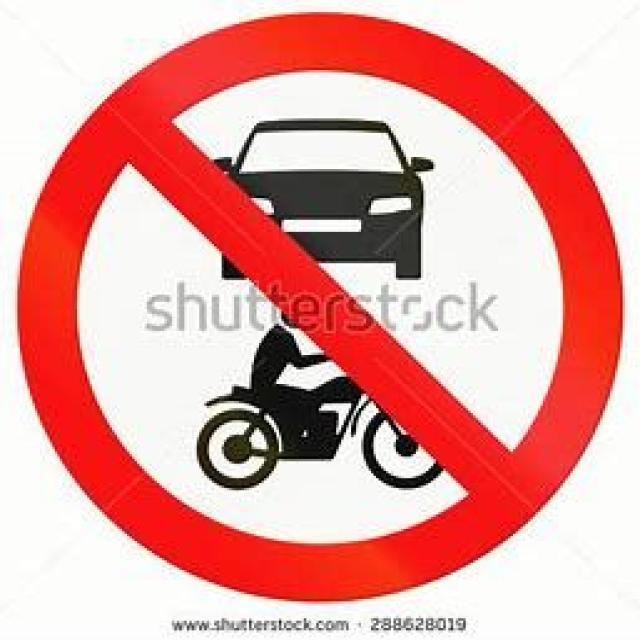all motor vehicle prohibited: (33, 12, 616, 596)
